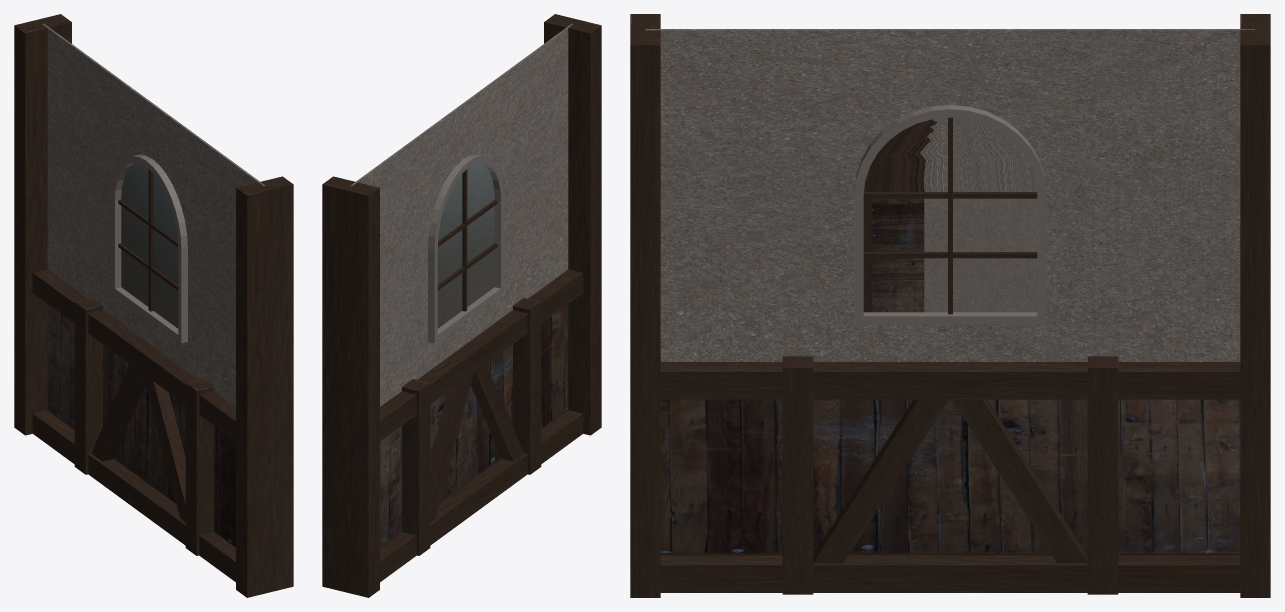
The model's file is OutdoorArchitecture_BasicWall03_Window01_BothEdges_BShortt.fbx.
3 renders of one model, left to right at view 1: azimuth 30°, elevation 25°; view 2: azimuth 150°, elevation 25°; view 3: azimuth 270°, elevation 25°, orthographic. The views are drawn at different scales.
Parts seen in each view (by area): view 1: OutdoorArchitecture_BasicWall03_Window01_BothEdge_BShortt; view 2: OutdoorArchitecture_BasicWall03_Window01_BothEdge_BShortt; view 3: OutdoorArchitecture_BasicWall03_Window01_BothEdge_BShortt.
Boxes of the visible parts, x1=… form: OutdoorArchitecture_BasicWall03_Window01_BothEdge_BShortt: x1=14, y1=14, x2=293, y2=597; OutdoorArchitecture_BasicWall03_Window01_BothEdge_BShortt: x1=322, y1=14, x2=601, y2=597; OutdoorArchitecture_BasicWall03_Window01_BothEdge_BShortt: x1=630, y1=14, x2=1270, y2=597.
Bounding box in the file's own units: 36.37 × 300 × 315.
